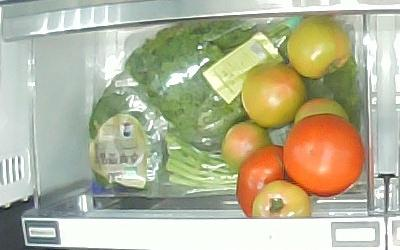tomato: (283, 114, 364, 197), (241, 63, 309, 129), (288, 16, 352, 78), (237, 144, 287, 217), (222, 122, 273, 171), (252, 181, 311, 217), (293, 97, 349, 123)
